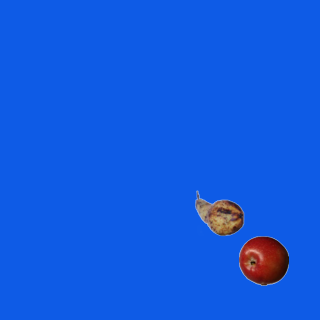Apple Braeburn: (238, 235, 288, 285)
Pear Abate: (194, 188, 244, 238)
